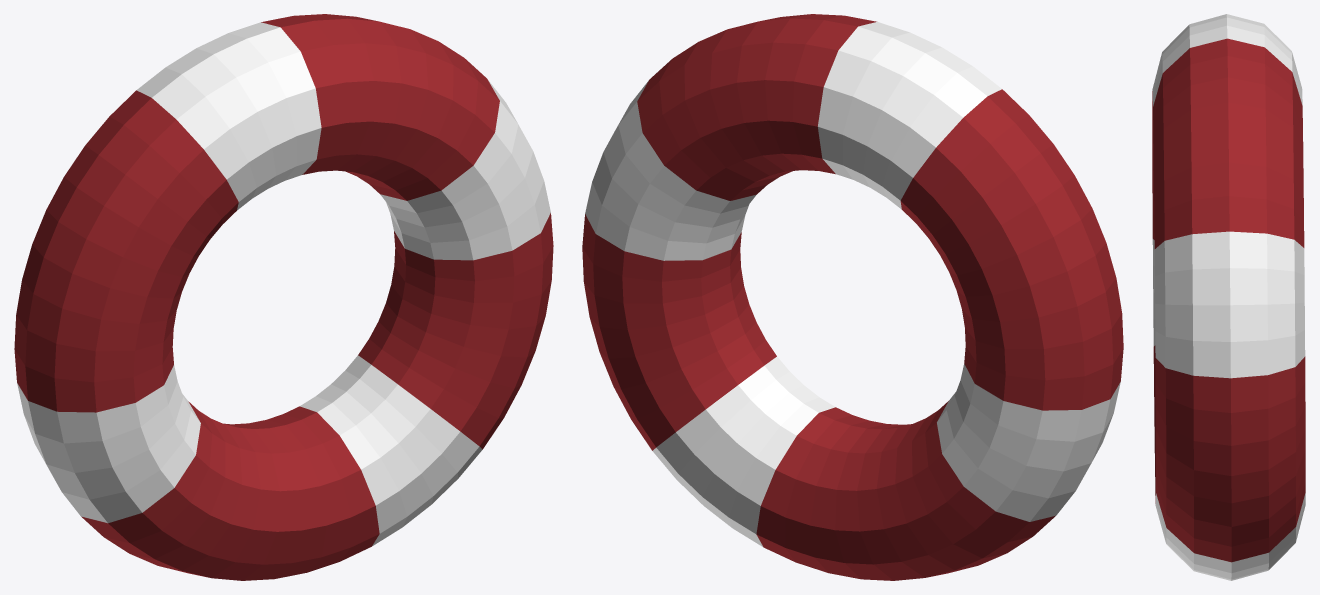
Rendered from BOIA.fbx.
3 views of the same model, side by side, from view 1: azimuth 30°, elevation 25°; view 2: azimuth 150°, elevation 25°; view 3: azimuth 270°, elevation 25° (orthographic). The views are drawn at different scales.
Visible parts, largest first — view 1: POSTO_LOD0.001; view 2: POSTO_LOD0.001; view 3: POSTO_LOD0.001.
Boxes of the visible parts, x1,y1,x2,y2 form: POSTO_LOD0.001: (14, 14, 553, 580); POSTO_LOD0.001: (582, 14, 1123, 580); POSTO_LOD0.001: (1152, 14, 1305, 580).
Size of the model in its own units: 48.54 by 48.54 by 13.15.
